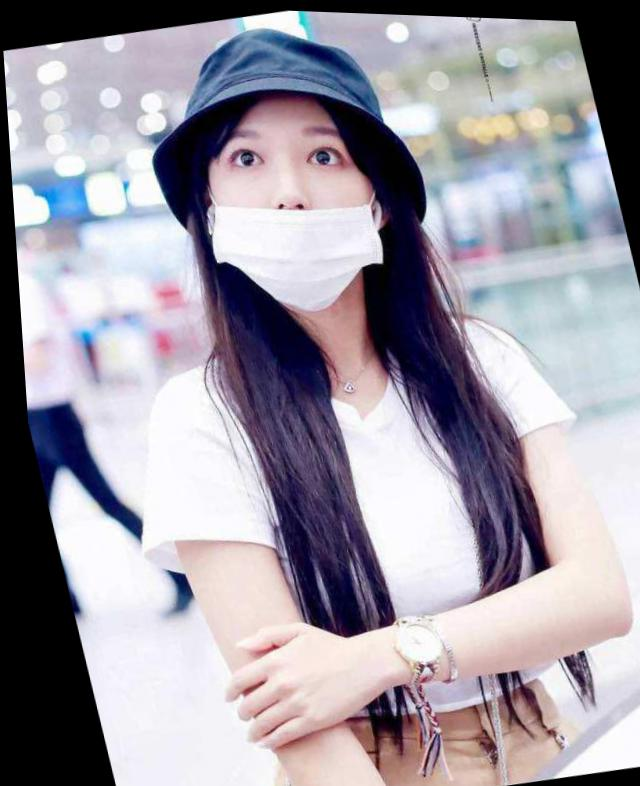WRONG: (186, 90, 394, 319)
